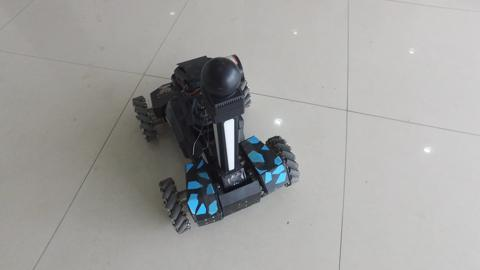chariot: (107, 53, 269, 220)
